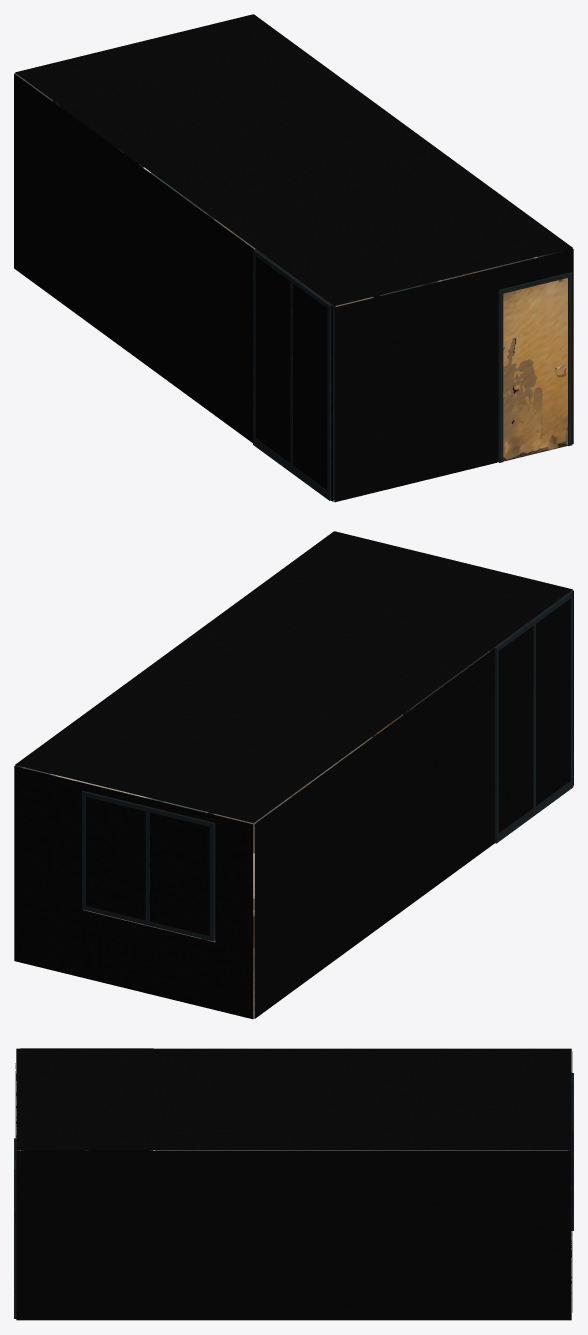
File: room.glb
The picture shows the model from 3 angles, top to bottom: view 1: azimuth 30°, elevation 25°; view 2: azimuth 150°, elevation 25°; view 3: azimuth 270°, elevation 25°; orthographic projection. The views are drawn at different scales.
Parts seen in each view (by area): view 1: Glass op_1, Door op_3, Window frames; view 2: Glass op_1, Window frames, Floor; view 3: Glass op_1, Window frames, West wall.
Boxes of the visible parts, x1,y1,x2,y2 form: Glass op_1: (14,14,573,502); Door op_3: (503,278,567,461); Window frames: (52,100,572,500); Glass op_1: (14,531,573,1019); Window frames: (82,592,573,941); Floor: (84,737,372,1018); Glass op_1: (15,1048,572,1320); Window frames: (14,1048,573,1318); West wall: (154,1150,567,1150).
Bounding box in the file's own units: 3.16 × 2.46 × 7.28.
Materials: 54 (53 with a texture image).
